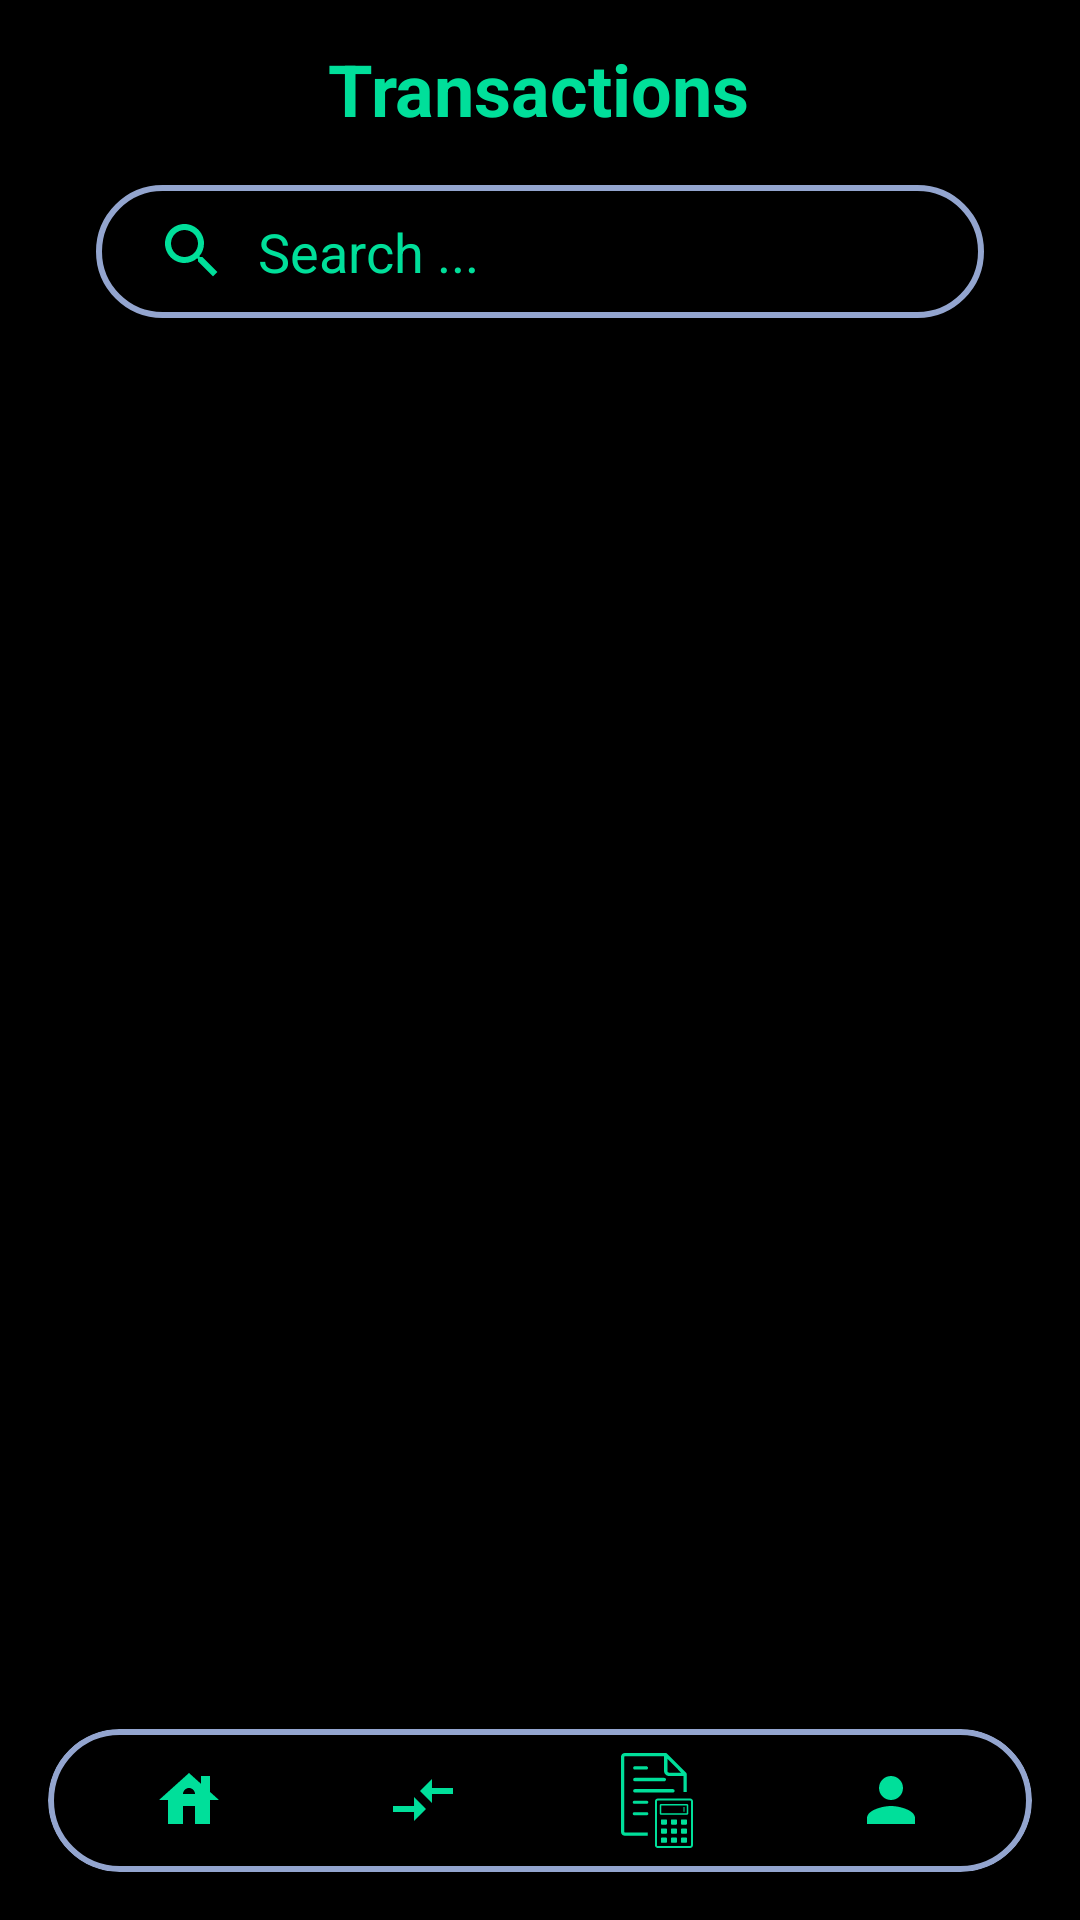

Icons on this 1080 x 1920 Android screen, each with its box as (x1, y1, x2, y2):
Home: (159, 1773, 219, 1824)
Transactions: (393, 1779, 453, 1821)
User Profile: (867, 1776, 915, 1824)
